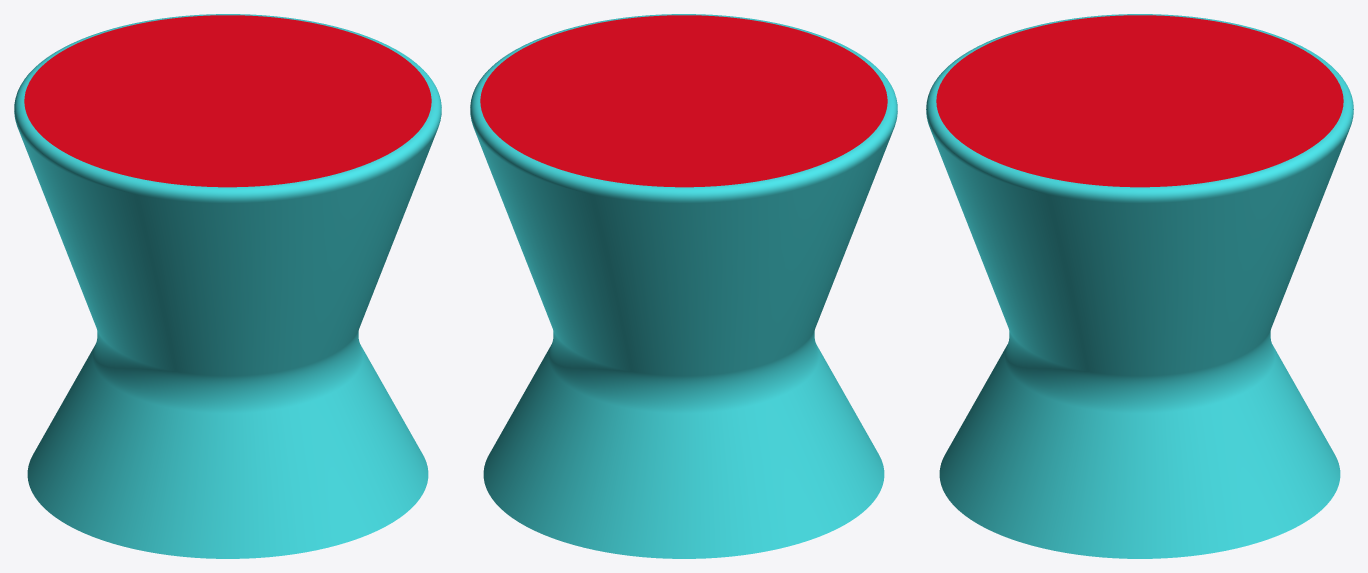
Rendered from promontoir.glb.
3 renders of one model, left to right at view 1: azimuth 30°, elevation 25°; view 2: azimuth 150°, elevation 25°; view 3: azimuth 270°, elevation 25°, orthographic.
Visible parts, largest first — view 1: Promontoir, Sommet; view 2: Promontoir, Sommet; view 3: Promontoir, Sommet.
Part boxes in pixels (bbox=[...]): Promontoir: bbox=[14, 14, 441, 558]; Sommet: bbox=[24, 15, 431, 187]; Promontoir: bbox=[470, 14, 897, 558]; Sommet: bbox=[480, 15, 887, 187]; Promontoir: bbox=[926, 14, 1353, 558]; Sommet: bbox=[936, 15, 1343, 187].
Size of the model in its own units: 0.5713 by 0.5498 by 0.5713.
